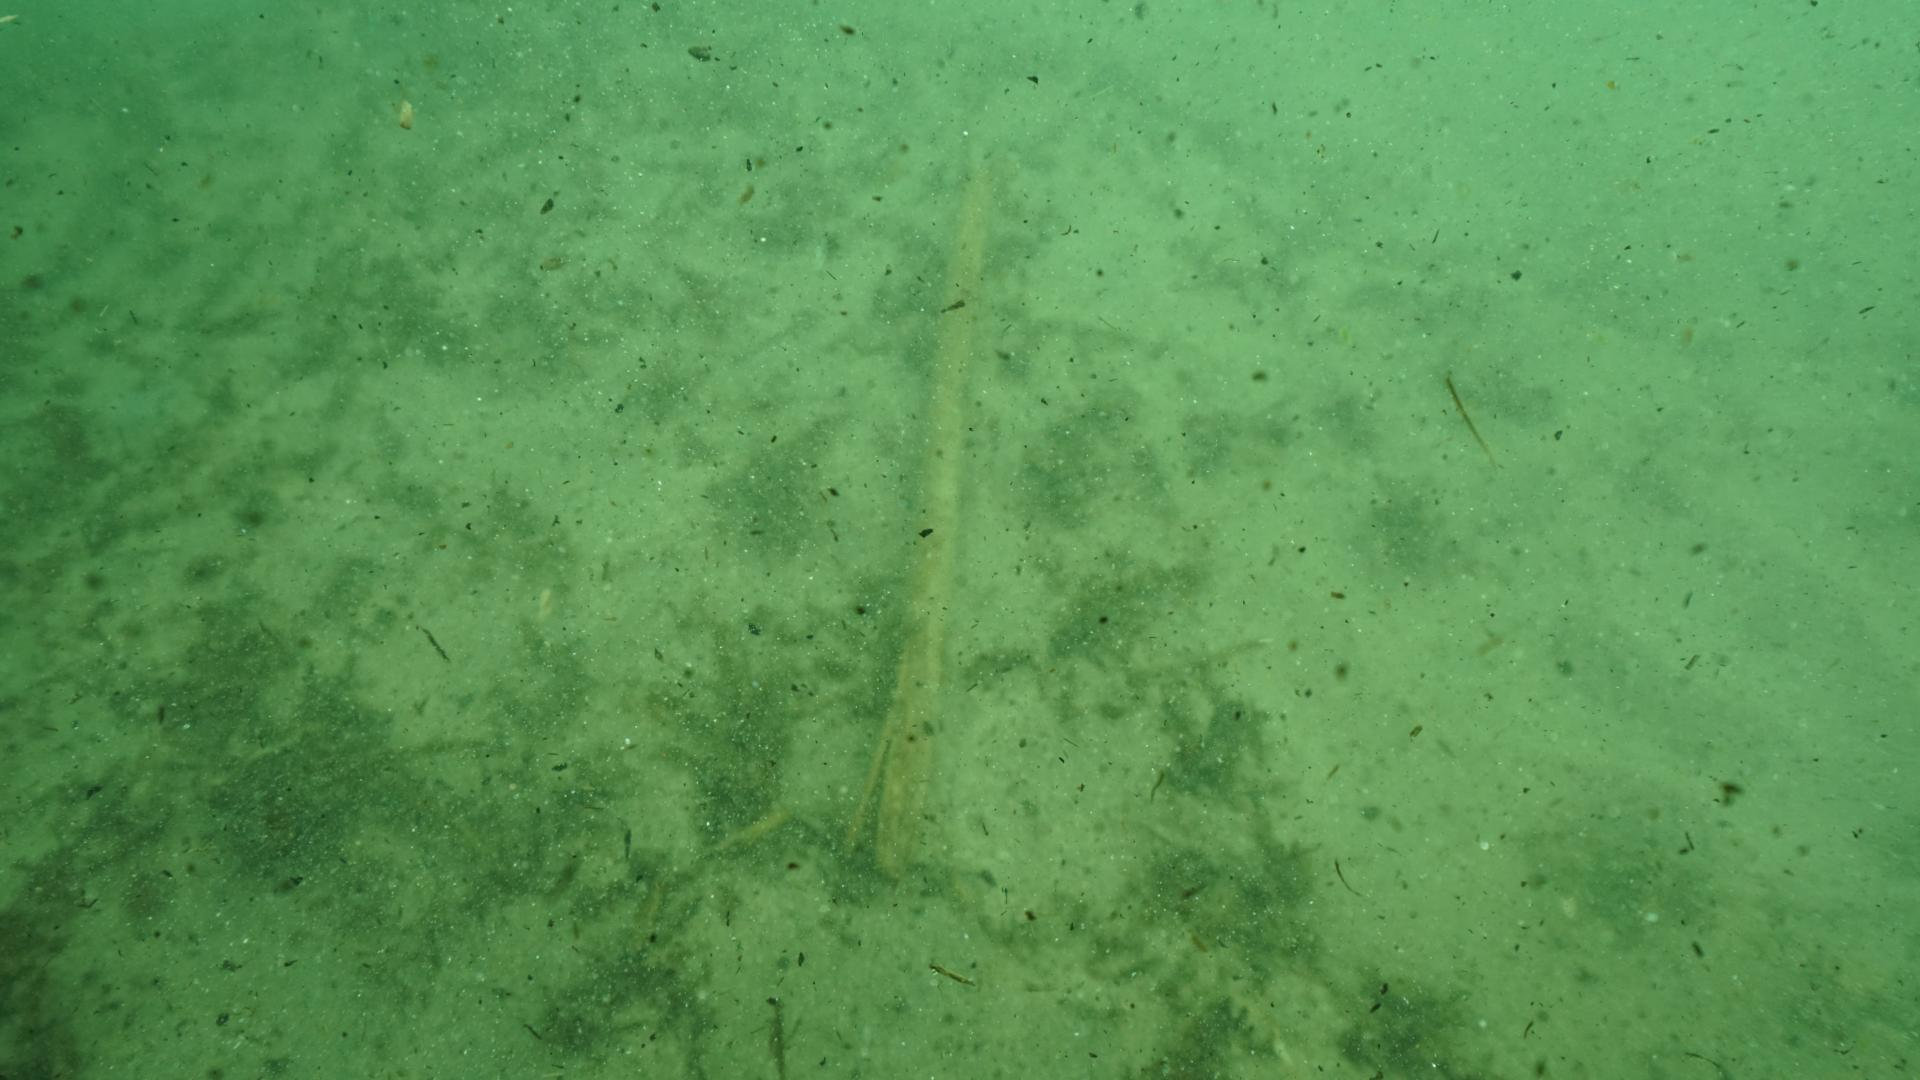wood: (843, 142, 1000, 878)
